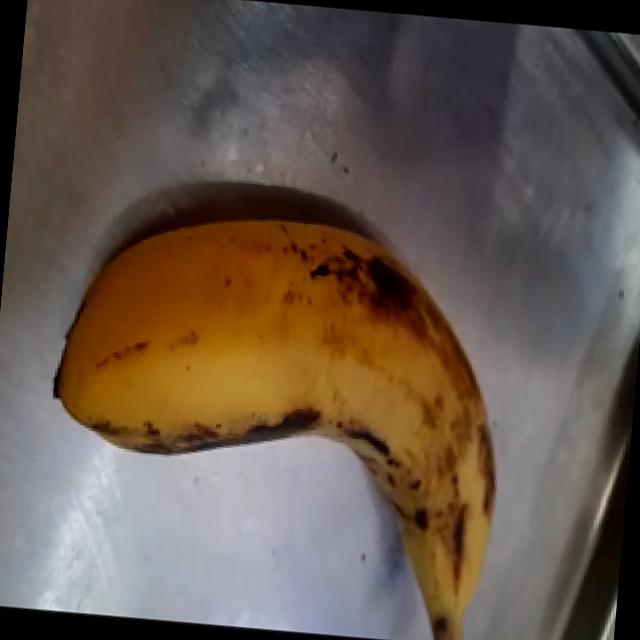Rotten_Banana: (28, 115, 520, 541)
